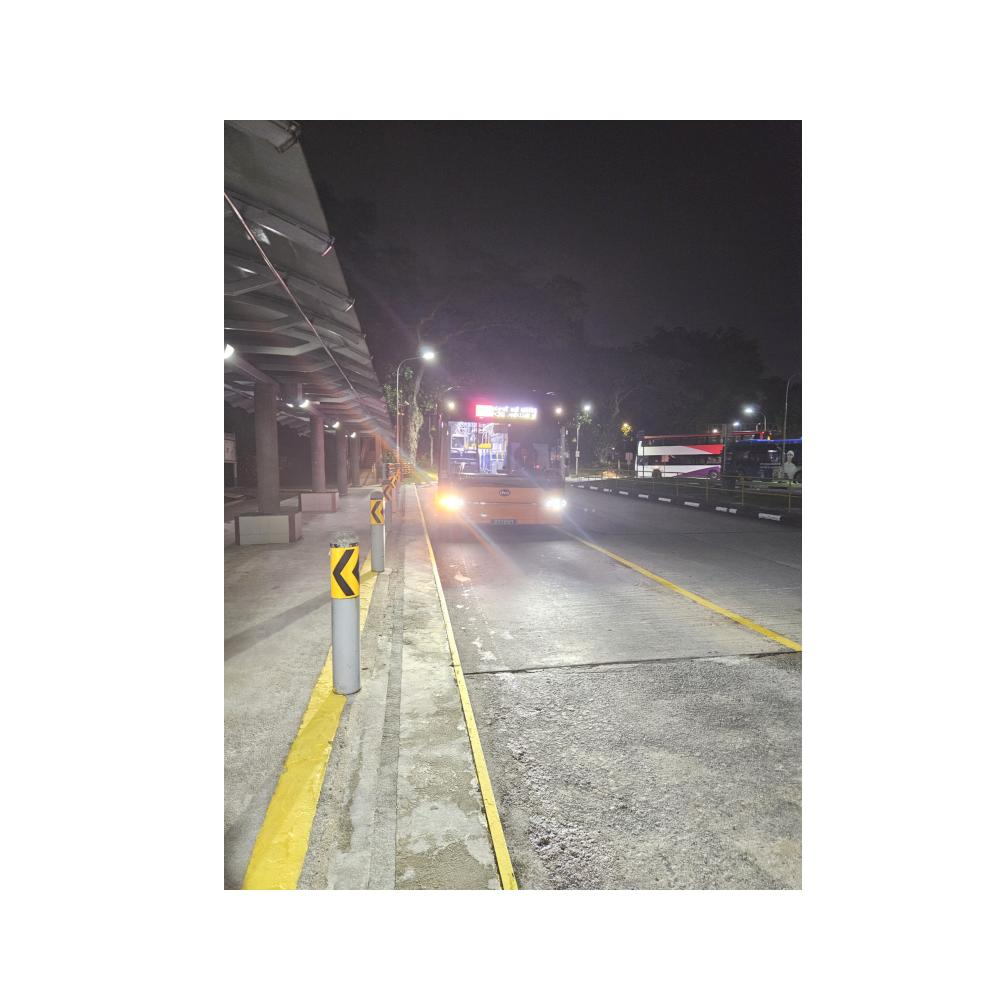bus: (429, 389, 572, 535), (635, 428, 771, 483)
